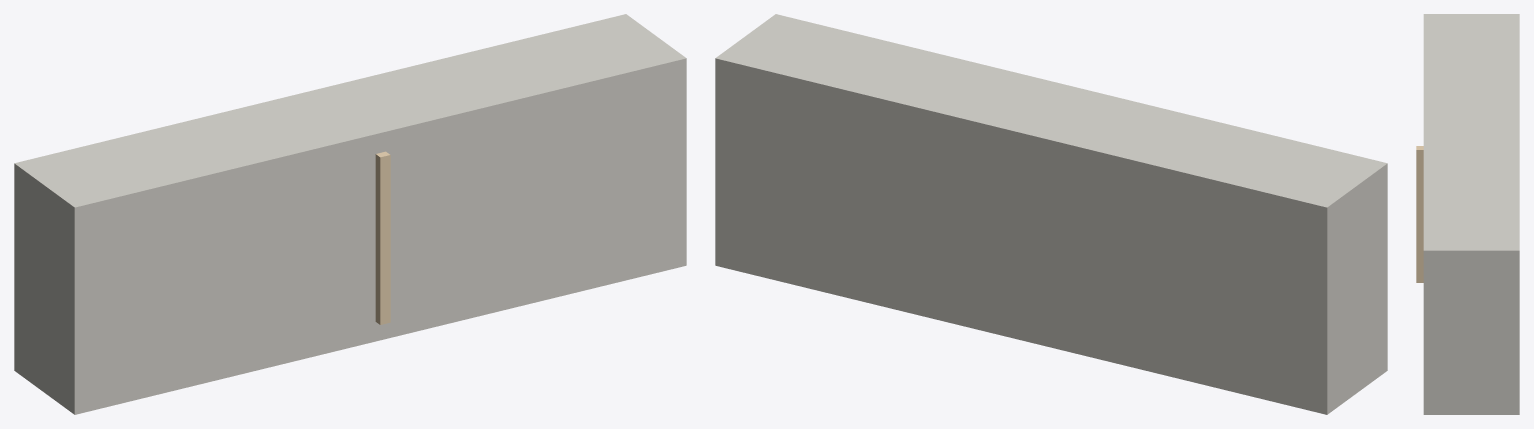
File: upper_cabinet.glb
The picture shows the model from 3 angles, left to right: view 1: azimuth 30°, elevation 25°; view 2: azimuth 150°, elevation 25°; view 3: azimuth 270°, elevation 25°; orthographic projection. The views are drawn at different scales.
Parts seen in each view (by area): view 1: upper_cabinet_ivory_0, upper_cabinet_oak_light_1; view 2: upper_cabinet_ivory_0; view 3: upper_cabinet_ivory_0, upper_cabinet_oak_light_1.
Boxes of the visible parts, x1,y1,x2,y2 form: upper_cabinet_ivory_0: (14, 14, 686, 414); upper_cabinet_oak_light_1: (375, 151, 390, 324); upper_cabinet_ivory_0: (715, 14, 1387, 414); upper_cabinet_ivory_0: (1423, 14, 1519, 414); upper_cabinet_oak_light_1: (1416, 146, 1423, 282).
Size of the model in its own units: 2.1 by 0.68 by 0.3875.
